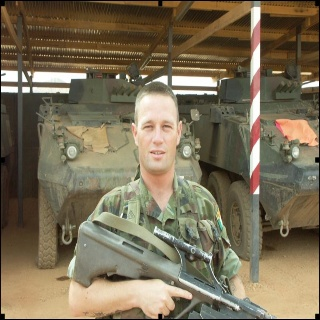rifle: (72, 211, 282, 320)
